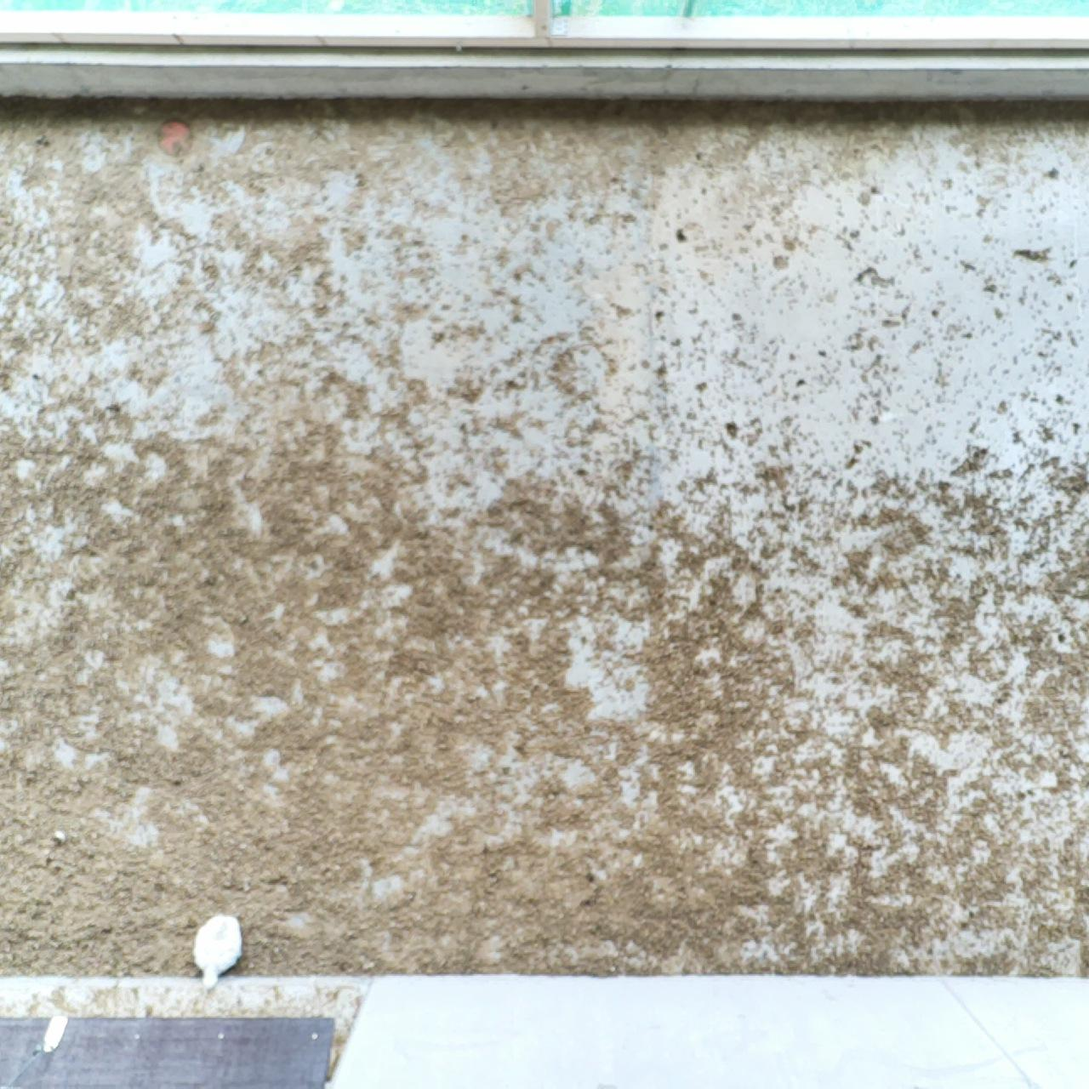chicken: (193, 905, 243, 986)
